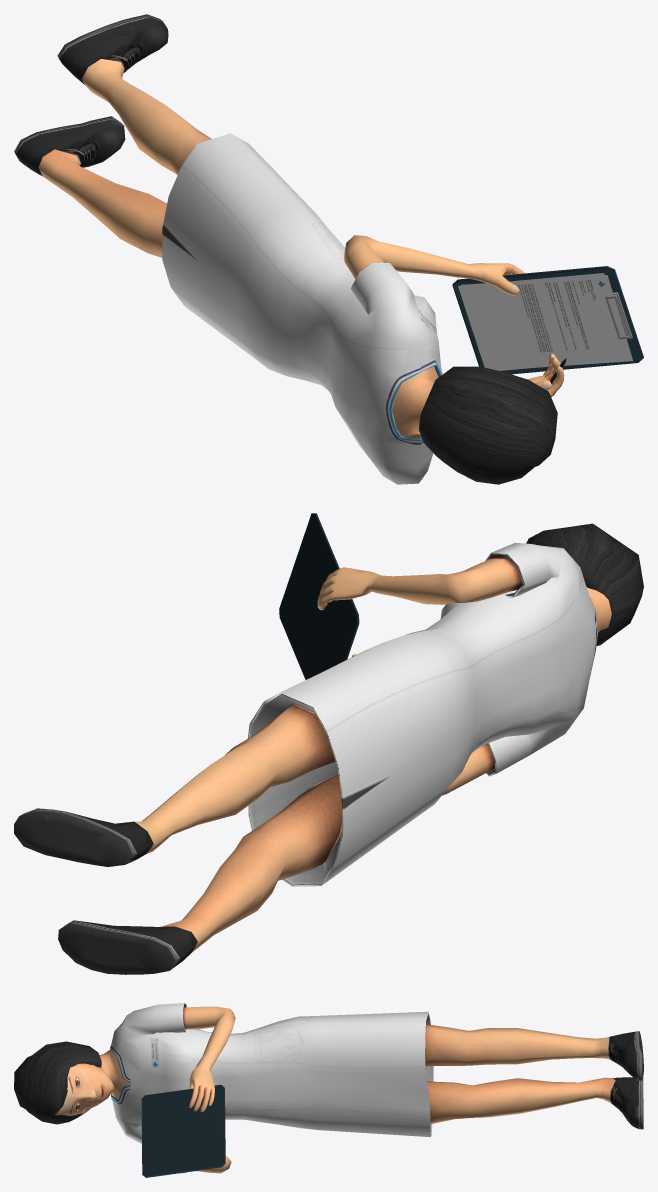
Rendered from Nurse.obj.
3 renders of one model, top to bottom at view 1: azimuth 30°, elevation 25°; view 2: azimuth 150°, elevation 25°; view 3: azimuth 270°, elevation 25°, orthographic. The views are drawn at different scales.
Parts seen in each view (by area): view 1: Nurse.001; view 2: Nurse.001; view 3: Nurse.001.
Part boxes in pixels (x1,y1,x2,y2): Nurse.001: (14,14,643,484); Nurse.001: (14,513,643,974); Nurse.001: (14,1003,643,1177).
Bounding box in the file's own units: 0.5701 × 0.432 × 1.62.
Materials: 2 (2 with a texture image).
